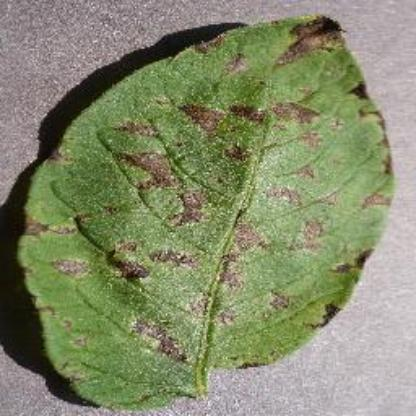Early-Blight: (14, 13, 402, 411)
